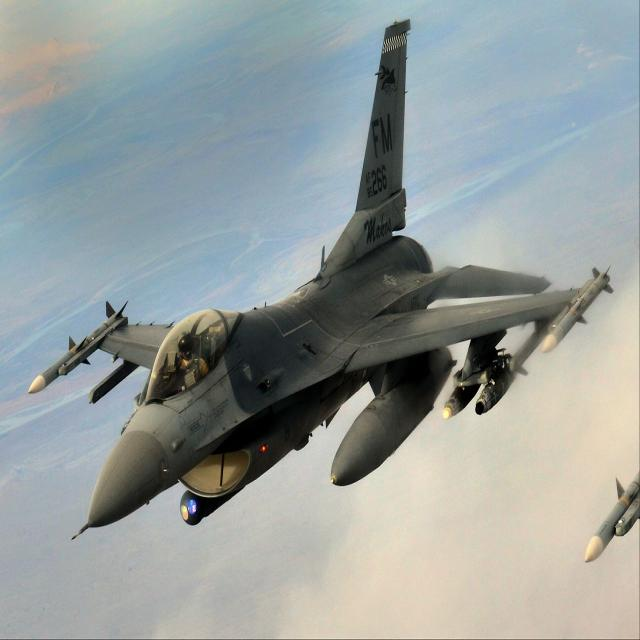MIL_Plane: (28, 17, 614, 541)
